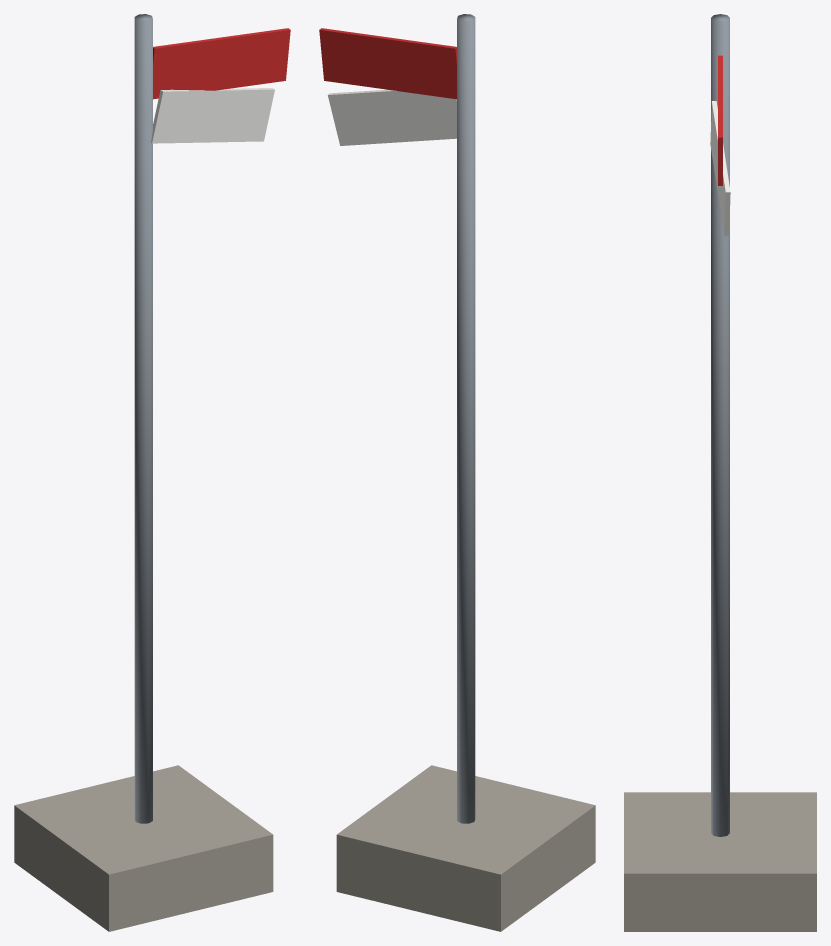
The model's file is prop_tiang_bendera.glb.
3 renders of one model, left to right at view 1: azimuth 30°, elevation 25°; view 2: azimuth 150°, elevation 25°; view 3: azimuth 270°, elevation 25°, orthographic.
Parts seen in each view (by area): view 1: tiang_bendera; view 2: tiang_bendera; view 3: tiang_bendera.
Boxes of the visible parts, x1=… form: tiang_bendera: x1=14, y1=14, x2=290, y2=931; tiang_bendera: x1=319, y1=14, x2=595, y2=931; tiang_bendera: x1=624, y1=14, x2=816, y2=931.
Bounding box in the file's own units: 1.66 × 6 × 1.2.
